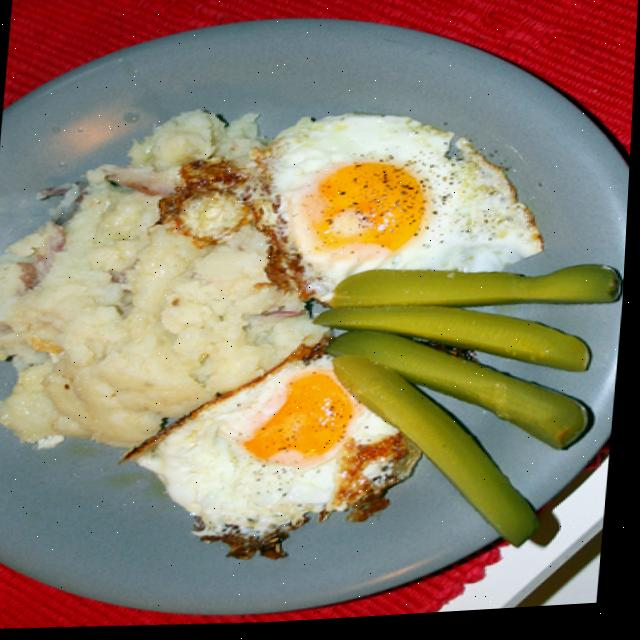鸡蛋料理: (129, 64, 521, 583)
